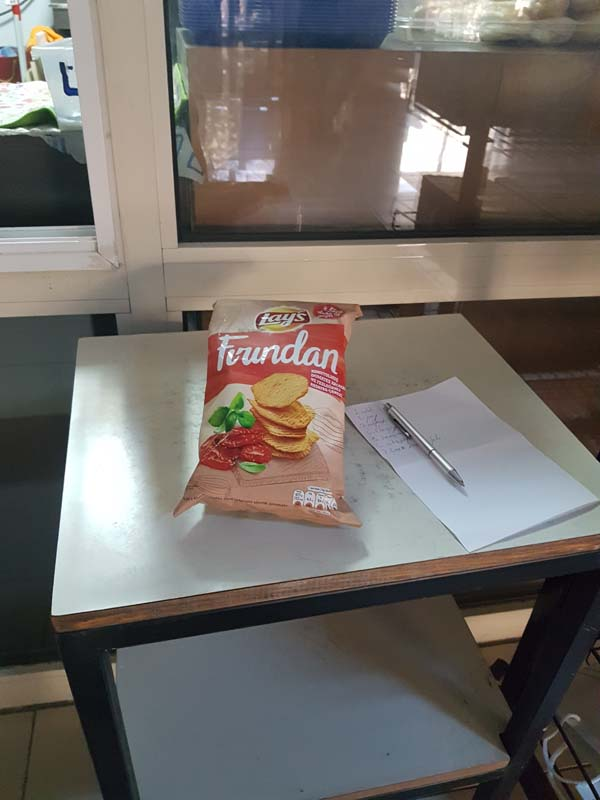laysfirindan: (179, 289, 368, 534)
